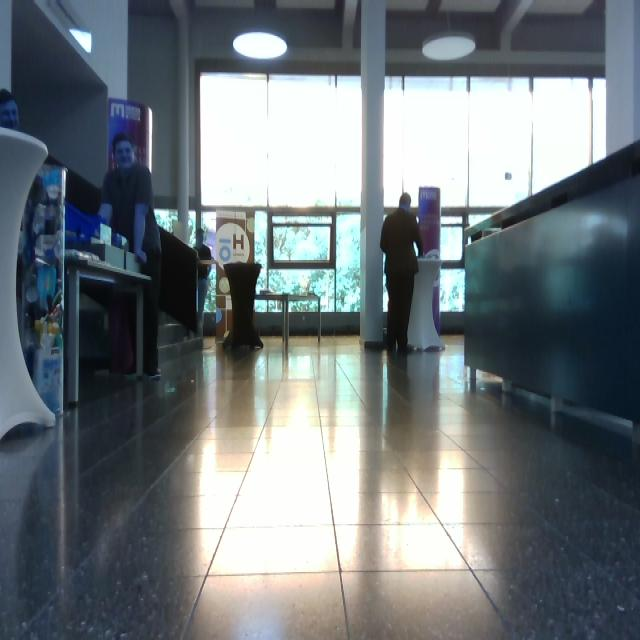light bulb: (232, 1, 289, 61), (422, 1, 477, 62), (233, 30, 288, 60), (422, 32, 476, 62), (69, 28, 93, 54)
person: (98, 133, 163, 380), (380, 193, 424, 354), (1, 89, 20, 132)
pillar: (1, 126, 57, 441), (360, 1, 387, 346)
staircase: (463, 138, 640, 445)
tiled floor: (2, 331, 639, 639)
window: (198, 69, 363, 317)
